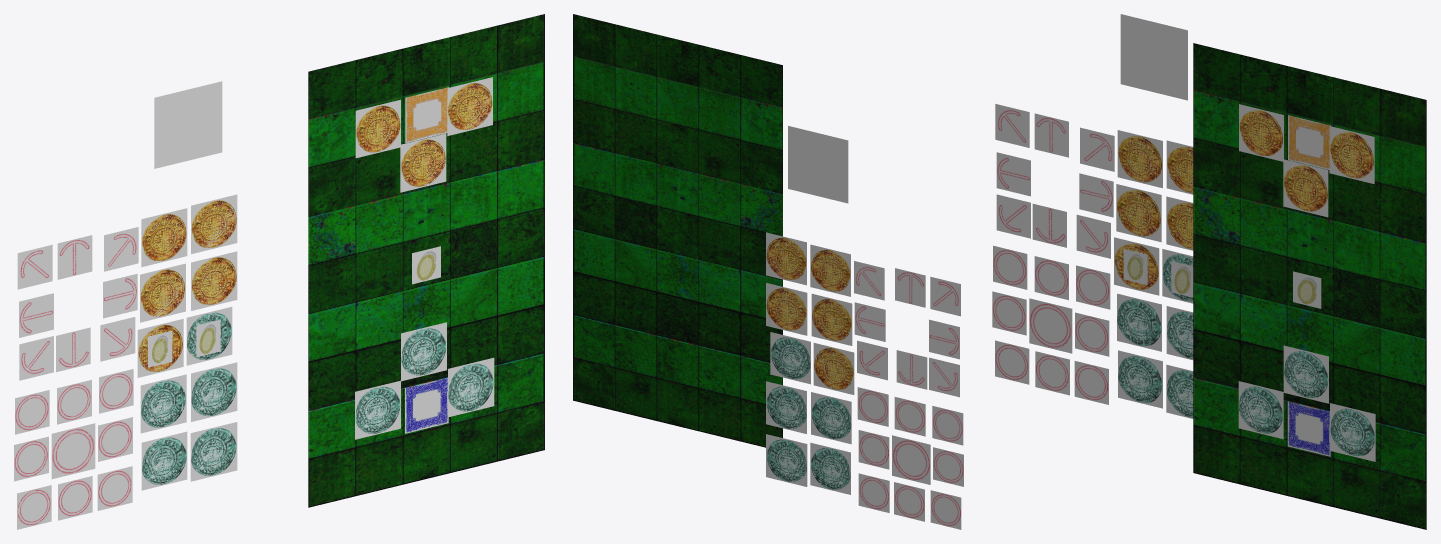
Rendered from Board1Scene.dae.
The picture shows the model from 3 angles, left to right: view 1: azimuth 30°, elevation 25°; view 2: azimuth 150°, elevation 25°; view 3: azimuth 330°, elevation 25°; orthographic projection. The views are drawn at different scales.
Parts seen in each view (by area): view 1: Board03, Transparent, BlueBeanObject (×2), Blue07, RedBeanObject (×2), Red07, Blue06, Red06, Blue03, Red01, Red04, Blue05 (+26 smaller); view 2: Board03, Transparent, Blue07, Red06, RedBeanObject, Red05, Blue06, Red07, BlueBeanObject, Blue05, Blue04, Red04 (+17 smaller); view 3: Board03, Transparent, RedBeanObject (×2), Blue03, Red05, Blue02, Blue01, Red01, Red04, Red03, Blue05, Blue04 (+27 smaller).
Part boxes in pixels (bbox=[...]): Board03: bbox=[308, 14, 544, 507]; Transparent: bbox=[154, 81, 222, 168]; BlueBeanObject (×2): bbox=[186, 307, 232, 365]; Blue07: bbox=[190, 422, 237, 481]; RedBeanObject (×2): bbox=[137, 319, 183, 377]; Red07: bbox=[191, 194, 237, 254]; Blue06: bbox=[191, 362, 237, 421]; Red06: bbox=[191, 251, 237, 310]; Blue03: bbox=[448, 357, 494, 417]; Red01: bbox=[400, 133, 446, 192]; Red04: bbox=[141, 208, 187, 267]; Blue05: bbox=[140, 374, 186, 433]; Board03: bbox=[573, 14, 782, 447]; Transparent: bbox=[788, 126, 848, 203]; Blue07: bbox=[766, 434, 807, 486]; Red06: bbox=[766, 283, 807, 335]; RedBeanObject: bbox=[813, 343, 854, 394]; Red05: bbox=[811, 293, 852, 345]; Blue06: bbox=[766, 381, 806, 433]; Red07: bbox=[766, 232, 806, 285]; BlueBeanObject: bbox=[770, 332, 810, 384]; Blue05: bbox=[811, 392, 851, 444]; Blue04: bbox=[810, 442, 850, 494]; Red04: bbox=[810, 244, 850, 296]; Board03: bbox=[1193, 43, 1426, 529]; Transparent: bbox=[1120, 14, 1187, 100]; RedBeanObject (×2): bbox=[1114, 237, 1159, 295]; Blue03: bbox=[1330, 403, 1375, 461]; Red05: bbox=[1116, 184, 1161, 242]; Blue02: bbox=[1238, 381, 1283, 439]; Blue01: bbox=[1283, 345, 1328, 403]; Red01: bbox=[1283, 159, 1328, 217]; Red04: bbox=[1117, 130, 1162, 188]; Red03: bbox=[1329, 126, 1374, 184]; Blue05: bbox=[1117, 293, 1161, 351]; Blue04: bbox=[1118, 350, 1162, 408].
Size of the model in its own units: 73.88 by 12.27 by 63.38.
11 materials, 11 textured.
